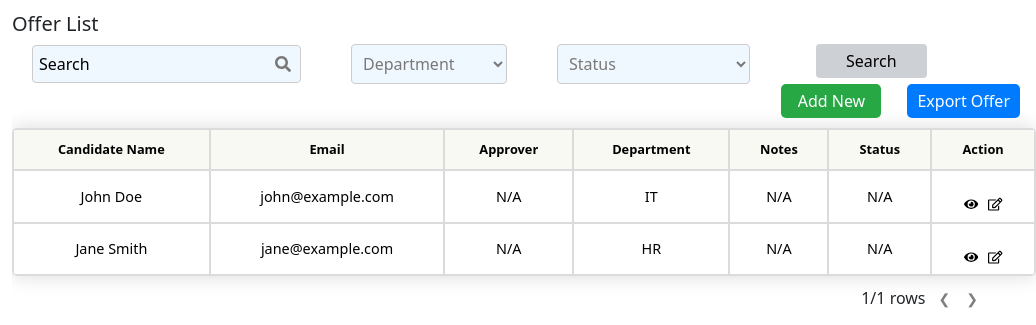
Scenario: Offer Component Tests › filters offers based on search query
Expected: the text "John Doe" is shown, [13,170,210,223]
Expected: the text "Jane Smith" is shown, [13,223,210,275]
Perform search
Type "John" into the field with placeholder "Search" at (166, 64), box [32,45,301,83]
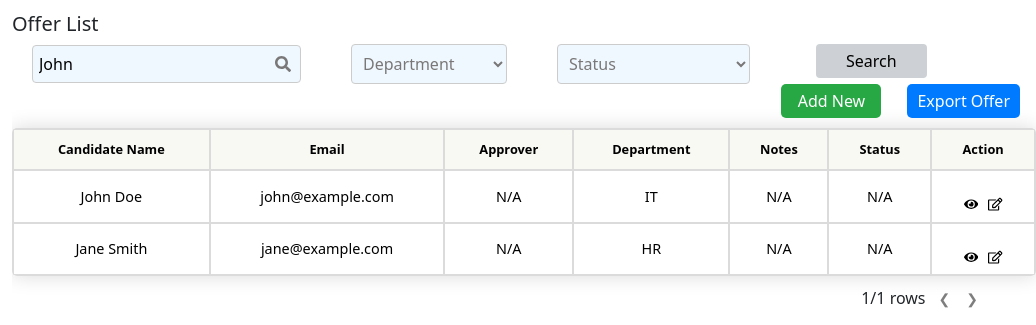
Click the button "Search" at (871, 61), box [816,44,927,78]
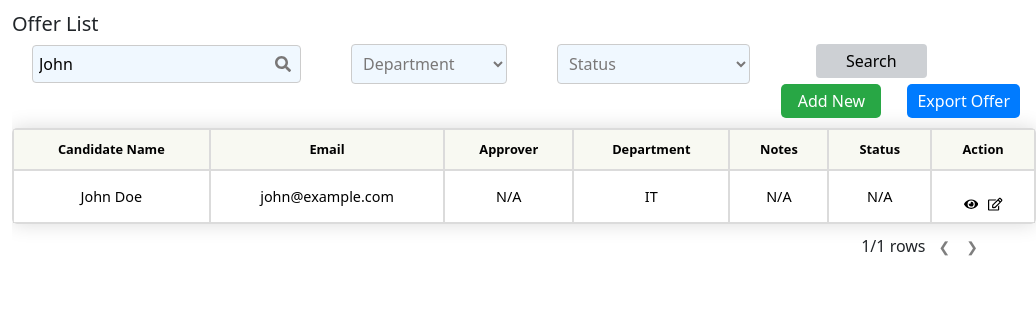
Expected: the text "John Doe" is shown, [13,170,210,223]
Now the text "Jane Smith" is gone
